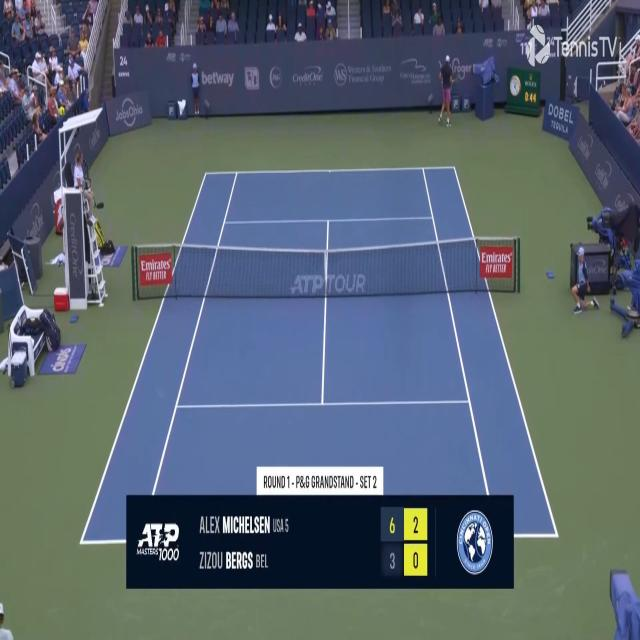tennis-player: (435, 47, 454, 135)
